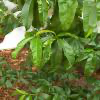Peach leaf: (57, 1, 78, 31), (10, 35, 35, 60), (81, 2, 98, 37), (21, 0, 35, 32), (29, 36, 42, 70), (85, 54, 97, 79), (3, 19, 14, 35), (71, 71, 82, 80), (19, 78, 31, 86), (6, 79, 13, 91), (42, 79, 52, 87), (29, 85, 37, 95), (53, 85, 64, 92), (39, 93, 51, 99), (61, 71, 69, 80), (84, 78, 93, 86), (90, 85, 96, 95), (6, 70, 18, 75), (68, 72, 73, 82), (86, 92, 93, 99), (66, 88, 70, 96)
